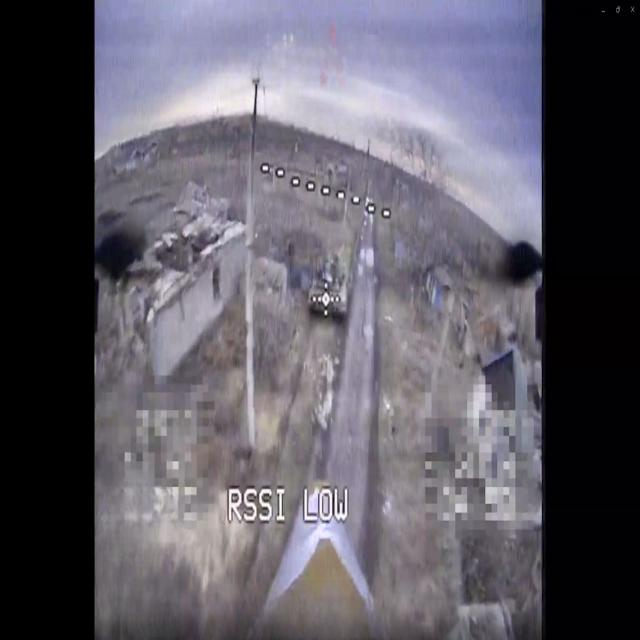MBT: (311, 244, 352, 315)
